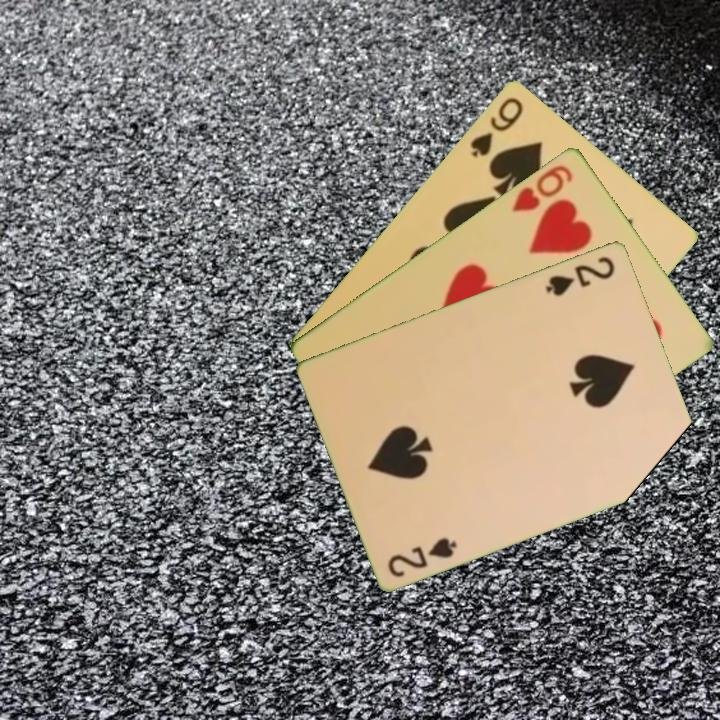2s: (384, 533, 461, 580), (542, 252, 618, 299)
6h: (507, 160, 576, 215)
9s: (466, 93, 527, 160)
